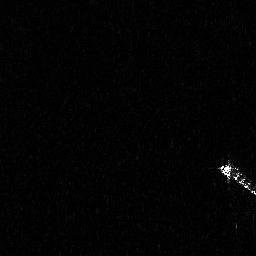ship: (216, 156, 256, 199)
